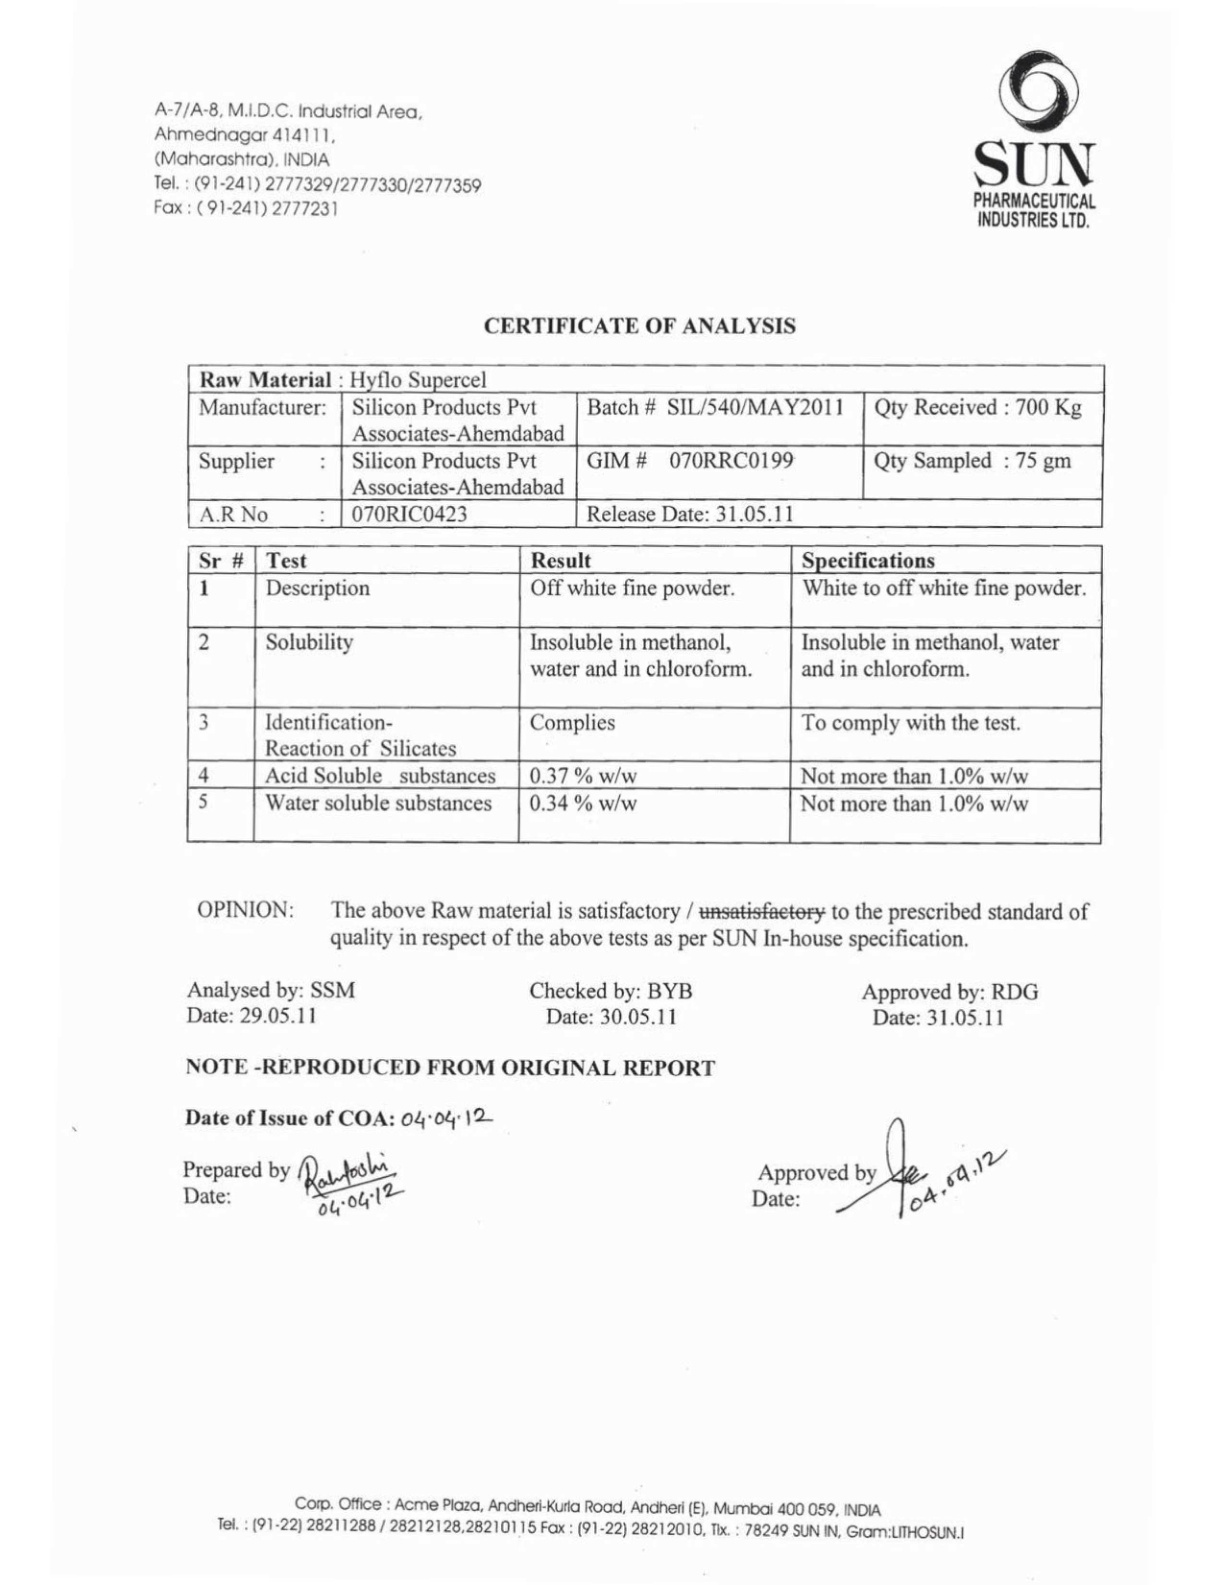full_lined: (185, 544, 1103, 846)
merged_cells: (186, 363, 1106, 530)
